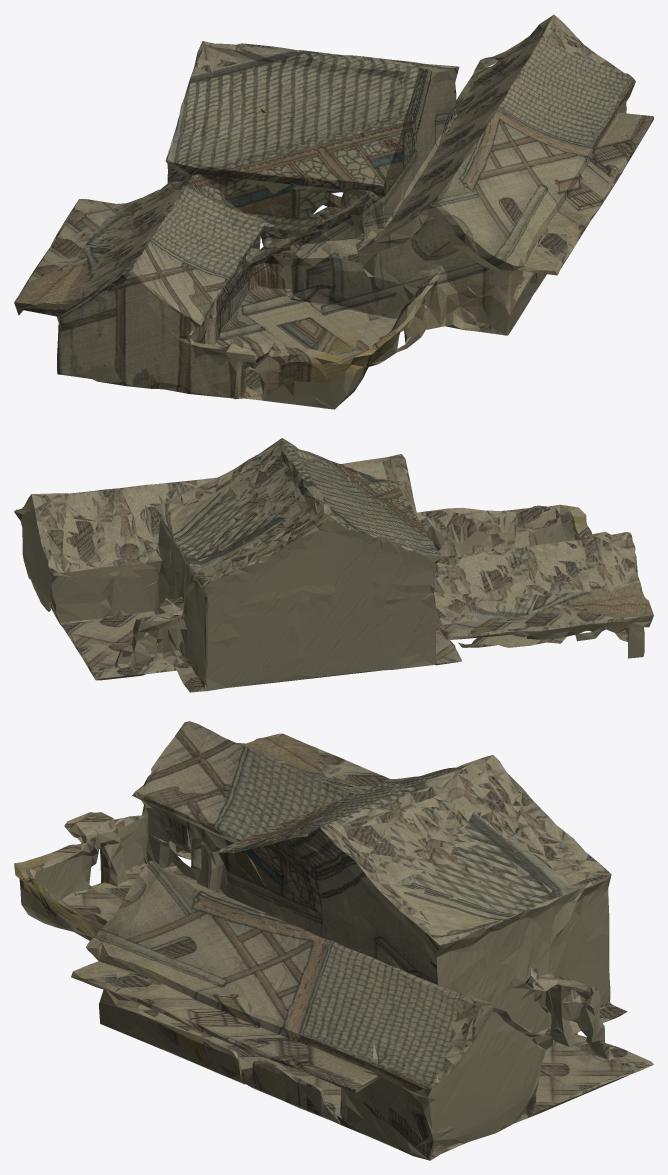
3 renders of one model, top to bottom at view 1: azimuth 30°, elevation 25°; view 2: azimuth 150°, elevation 25°; view 3: azimuth 270°, elevation 25°, orthographic. The views are drawn at different scales.
Parts seen in each view (by area): view 1: painted, roof, wall; view 2: wall, roof, painted; view 3: painted, wall, roof.
Part boxes in pixels (x1,y1,x2,y2): painted: [14, 37, 653, 398]; roof: [19, 14, 622, 400]; wall: [19, 46, 622, 409]; wall: [14, 449, 653, 692]; roof: [15, 440, 653, 692]; painted: [15, 438, 653, 663]; painted: [14, 721, 619, 1159]; wall: [16, 796, 645, 1160]; roof: [14, 727, 653, 1160].
Bounding box in the file's own units: 22.91 × 6.09 × 17.15.
Materials: 3 (3 with a texture image).
